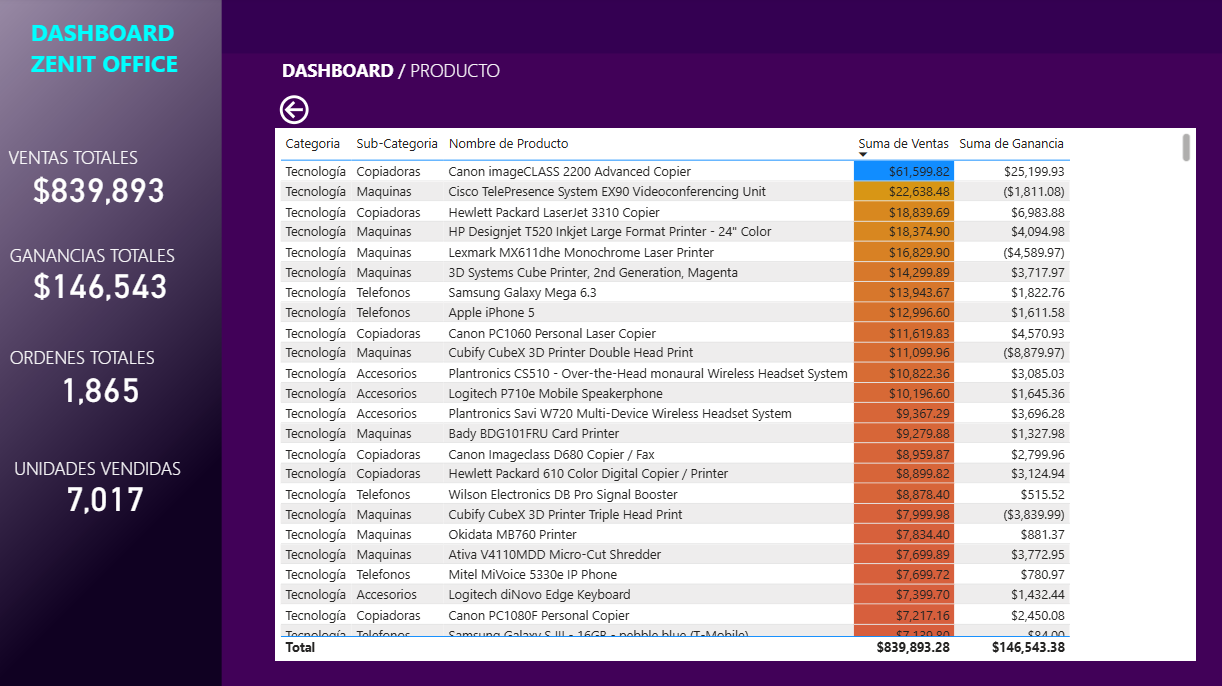

The page's visual inventory and layout, read from the dashboard file:
{"tool":"powerbi","page":{"name":"Producto","canvas":[1280,720],"ordinal":3},"visuals":[{"type":"textbox","box":[28.4,16,169.4,84.2],"z":0},{"type":"textbox","box":[256,59,304,41],"z":1000},{"type":"tableEx","fields":{"Values":["Supertienda Español.Categoria","Supertienda Español.Sub-Categoria","Supertienda Español.Nombre de Producto","Sum(Supertienda Español.Ventas)","Sum(Supertienda Español.Ganancia)"]},"box":[287,138,959,555],"z":2000},{"type":"card","fields":{"Values":["Sum(Supertienda Español.Ventas)"]},"box":[0,157.3,207.2,82.9],"z":3000},{"type":"textbox","box":[4.7,150,193.2,34.7],"z":4000},{"type":"card","fields":{"Values":["Sum(Supertienda Español.Ganancia)"]},"box":[2,258.3,207.2,82.9],"z":5000},{"type":"textbox","box":[6.7,251,193.2,34.7],"z":6000},{"type":"card","fields":{"Values":["CountNonNull(Supertienda Español.Ganancia)"]},"box":[1,365.3,207.2,82.9],"z":7000},{"type":"textbox","box":[5.7,358,193.2,34.7],"z":8000},{"type":"card","fields":{"Values":["Sum(Supertienda Español.Cantidad)"]},"box":[6,480.3,207.2,82.9],"z":9000},{"type":"textbox","box":[10.7,473,193.2,34.7],"z":10000},{"type":"actionButton","box":[287,98,100,40],"z":11000}]}

Visuals, with their boxes in screenshot pixels (x1, y1, x2, y2), scaled from the page's 1280x720 canvas onto the 1222x686 screenshot:
textbox: [27, 15, 189, 95]
textbox: [244, 56, 535, 95]
tableEx - Supertienda Español.Categoria x Supertienda Español.Sub-Categoria: [274, 131, 1190, 660]
card - Sum(Supertienda Español.Ventas): [0, 150, 198, 229]
textbox: [4, 143, 189, 176]
card - Sum(Supertienda Español.Ganancia): [2, 246, 200, 325]
textbox: [6, 239, 191, 272]
card - CountNonNull(Supertienda Español.Ganancia): [1, 348, 199, 427]
textbox: [5, 341, 190, 374]
card - Sum(Supertienda Español.Cantidad): [6, 458, 204, 537]
textbox: [10, 451, 195, 484]
actionButton: [274, 93, 369, 131]
